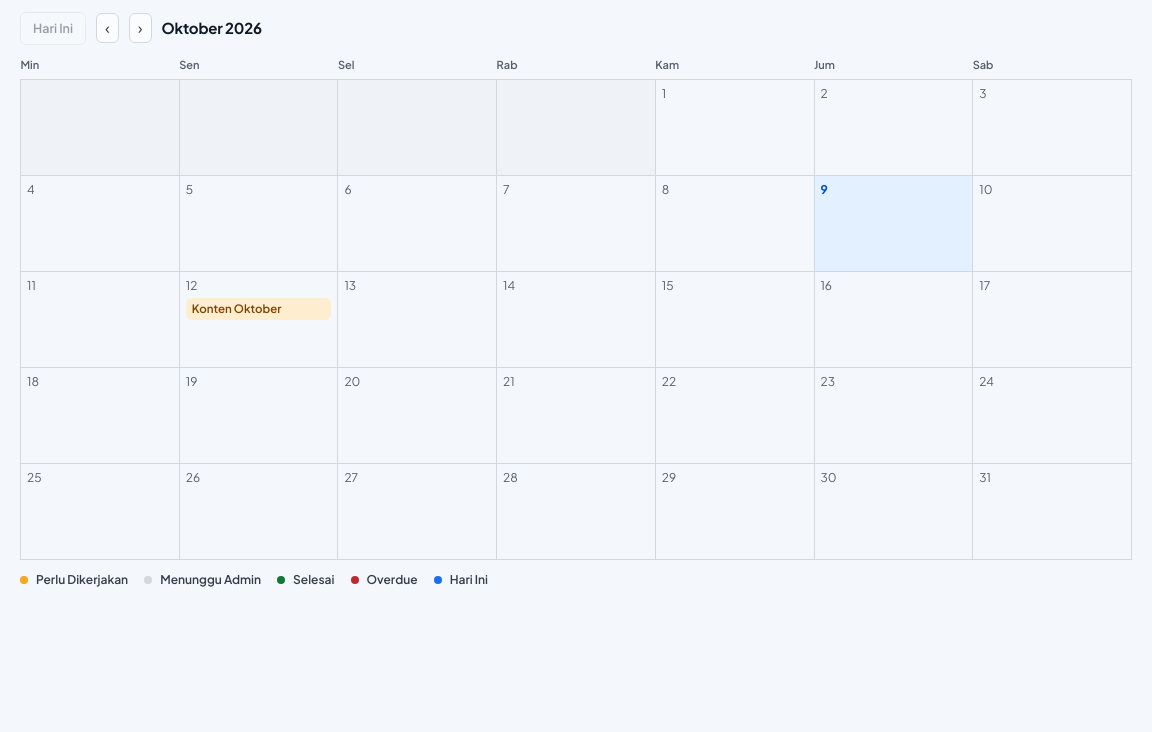
Test: TaskCalendar › month navigation › moves to the previous month
The image size is (1152, 732).
Step 1. Click the button named "Bulan Sebelumnya" → {"x": 107, "y": 28}, box left=96, top=13, right=119, bottom=43
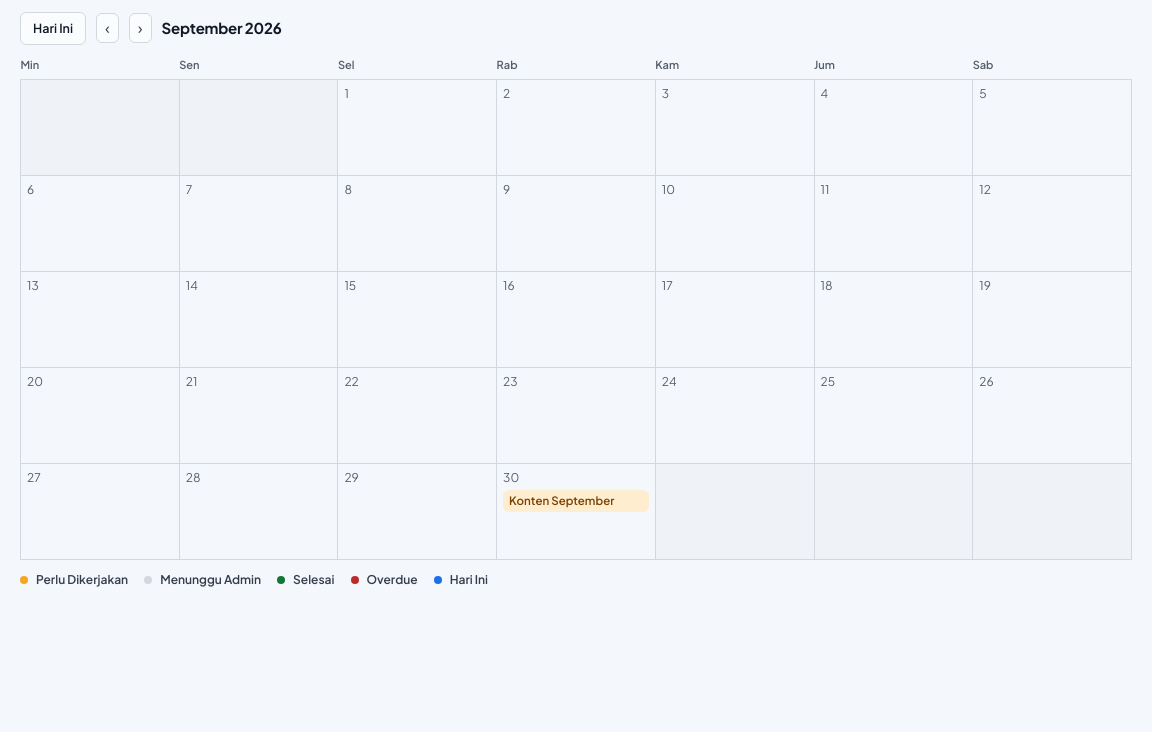
Now the heading "September 2026" is shown, box left=162, top=19, right=282, bottom=37
Now the button "Konten September" is shown, box left=503, top=490, right=649, bottom=512
